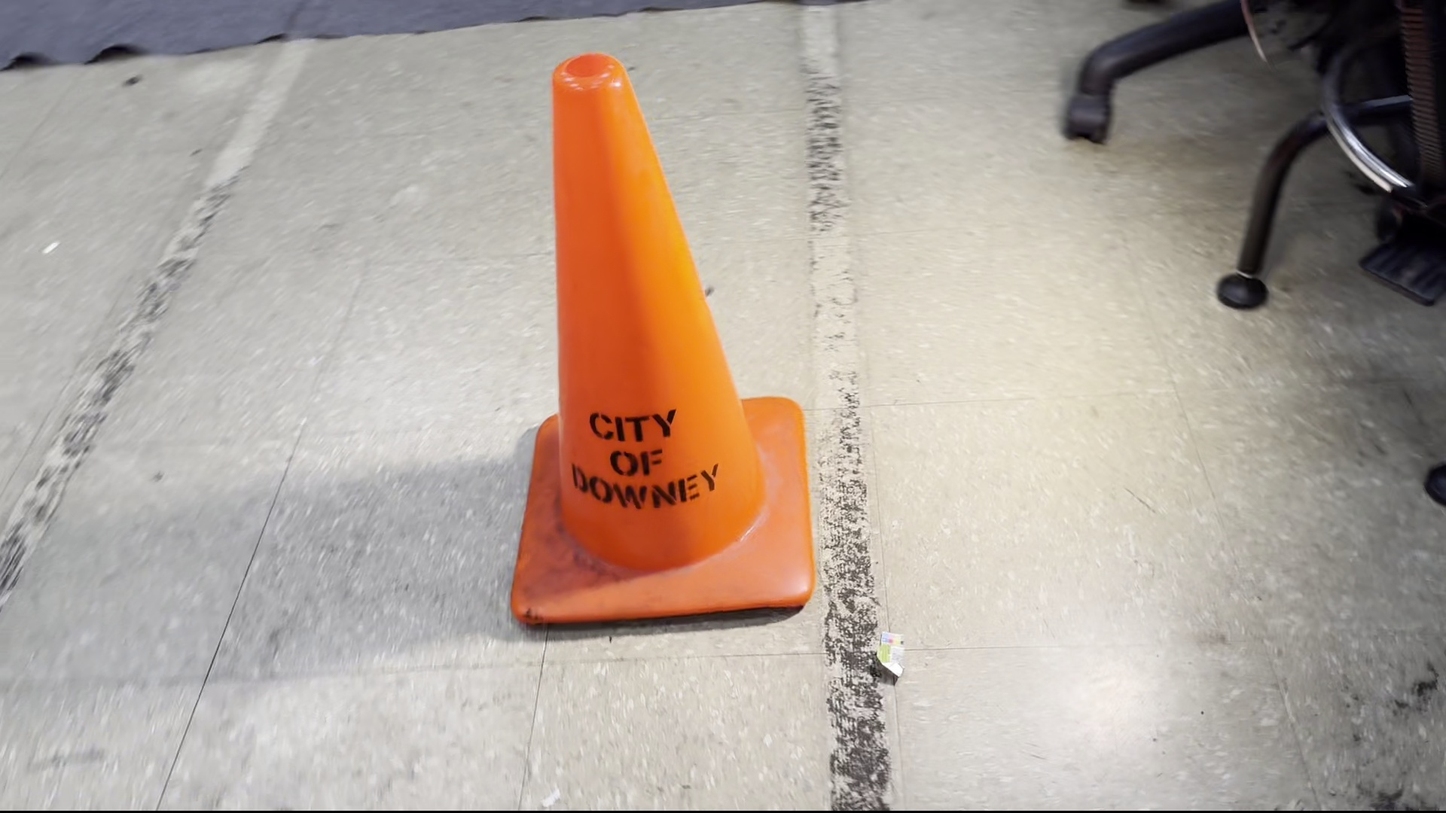traffic_cone: (509, 51, 816, 627)
